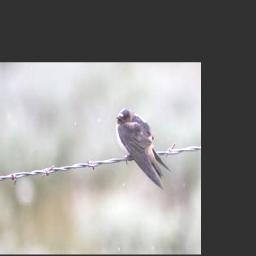Swallow: (114, 107, 172, 190)
